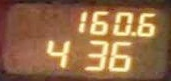-: (129, 29, 135, 36)
0: (111, 11, 132, 36)
1: (77, 10, 87, 33)
3: (83, 39, 108, 70)
4: (45, 39, 70, 68)
6: (106, 40, 131, 71), (88, 10, 109, 35), (137, 12, 156, 37)
